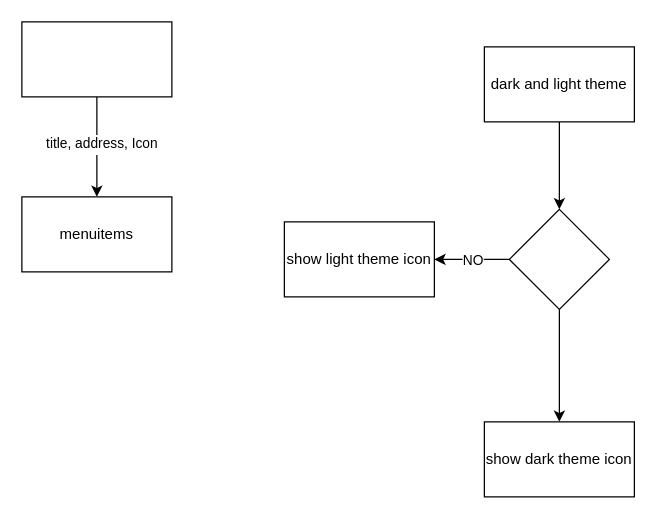
Some shapes in this 656 by 519 pixel diagram are drawn without their labels. Each missing label, with the box of its shape:
header: (21, 21, 172, 97)
if system is light: (508, 208, 609, 309)
